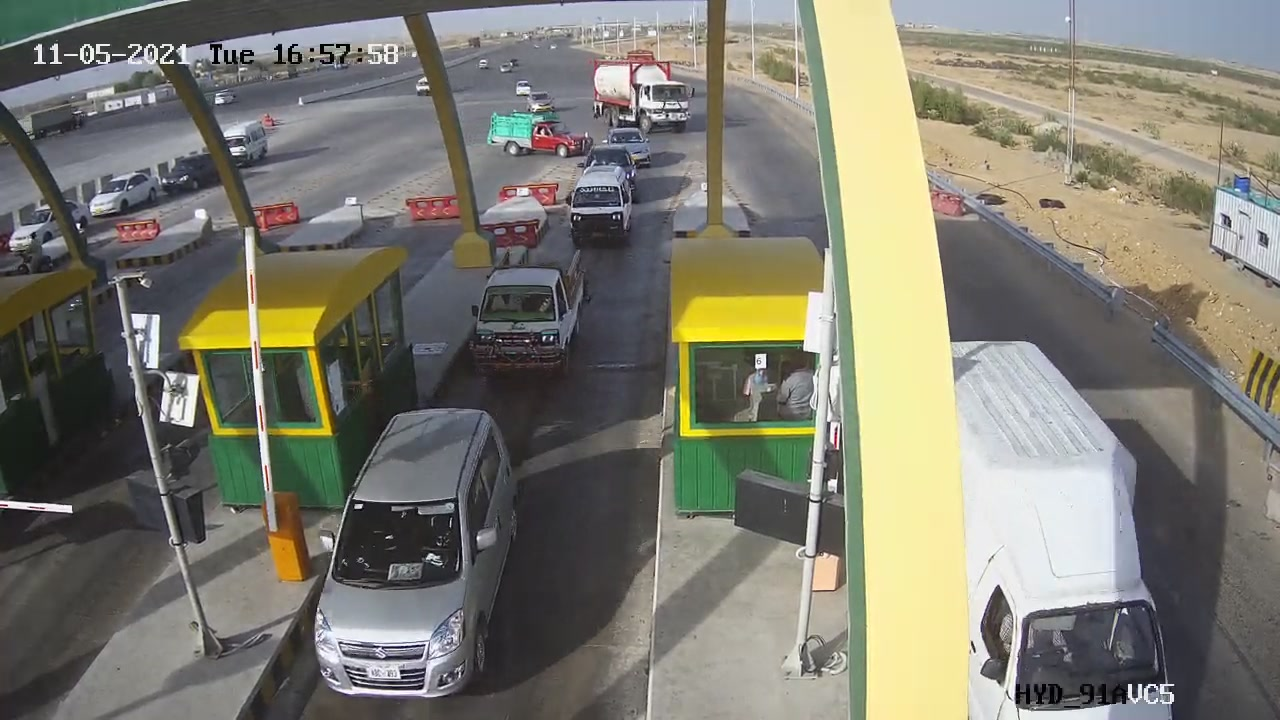F1: (548, 159, 642, 260)
